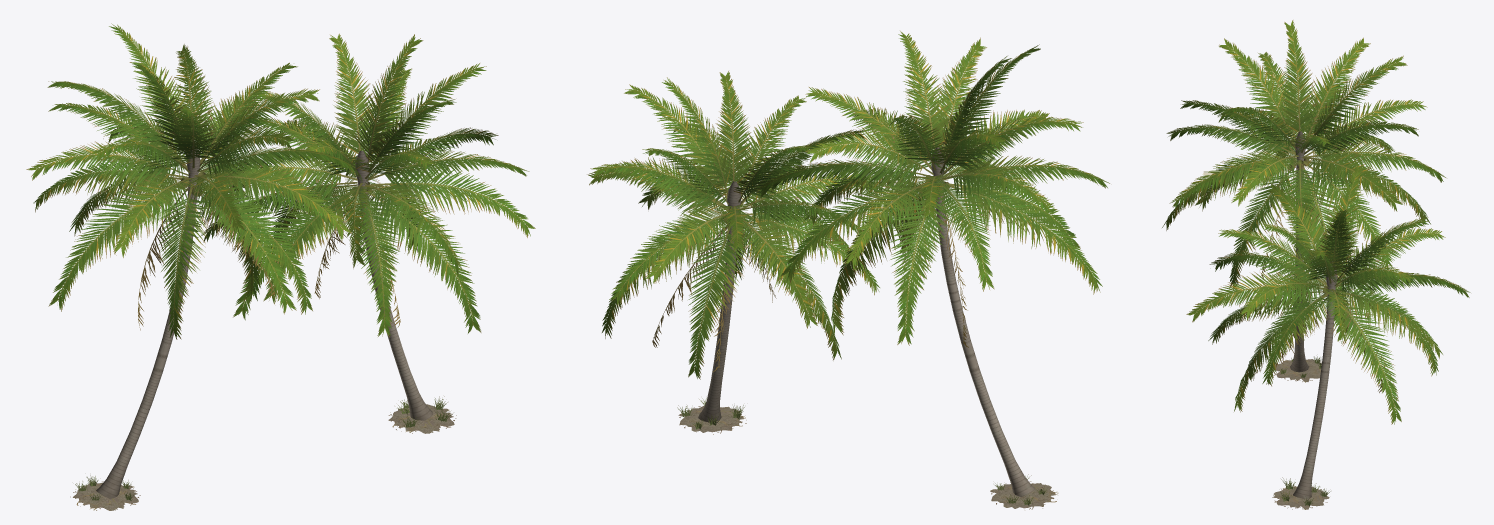
Rendered from coconut_palm.glb.
The picture shows the model from 3 angles, left to right: view 1: azimuth 30°, elevation 25°; view 2: azimuth 150°, elevation 25°; view 3: azimuth 270°, elevation 25°; orthographic projection. The views are drawn at different scales.
Parts seen in each view (by area): view 1: variant_a_lod0, variant_b_lod0; view 2: variant_a_lod0, variant_b_lod0; view 3: variant_a_lod0, variant_b_lod0.
Part boxes in pixels (x1,y1,x2,y2): variant_a_lod0: (26, 23, 355, 510); variant_b_lod0: (201, 33, 535, 433); variant_a_lod0: (755, 31, 1109, 509); variant_b_lod0: (587, 71, 880, 434); variant_a_lod0: (1162, 20, 1445, 382); variant_b_lod0: (1186, 165, 1470, 509).
Size of what is drawn, in the model's own units: 14.57 by 12.09 by 9.77.
2 materials, 2 textured.
